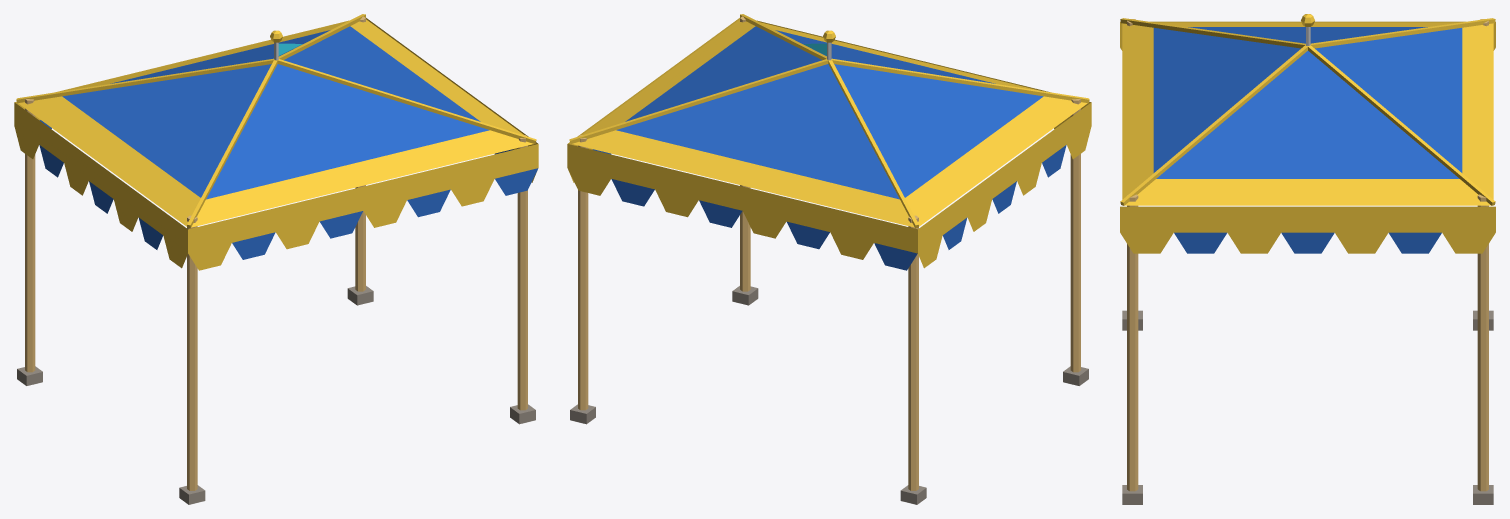
File: canopy_blue.glb
3 views of the same model, side by side, from view 1: azimuth 30°, elevation 25°; view 2: azimuth 150°, elevation 25°; view 3: azimuth 270°, elevation 25° (orthographic). The views are drawn at different scales.
Parts seen in each view (by area): view 1: canopy_blue; view 2: canopy_blue; view 3: canopy_blue.
Part boxes in pixels (x1=…): canopy_blue: x1=14, y1=14, x2=538, y2=504; canopy_blue: x1=567, y1=14, x2=1091, y2=504; canopy_blue: x1=1120, y1=14, x2=1495, y2=504.
Size of the model in its own units: 4.24 by 4.27 by 3.64.
Materials: 1 (1 with a texture image).
